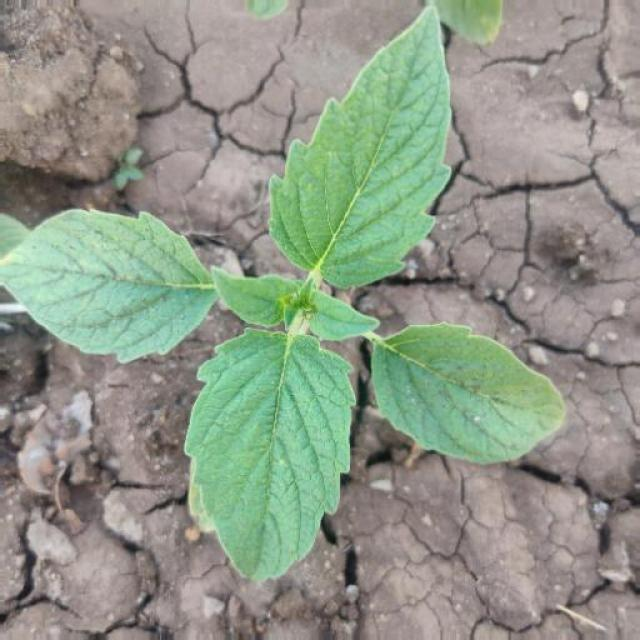crop: (5, 9, 570, 608)
